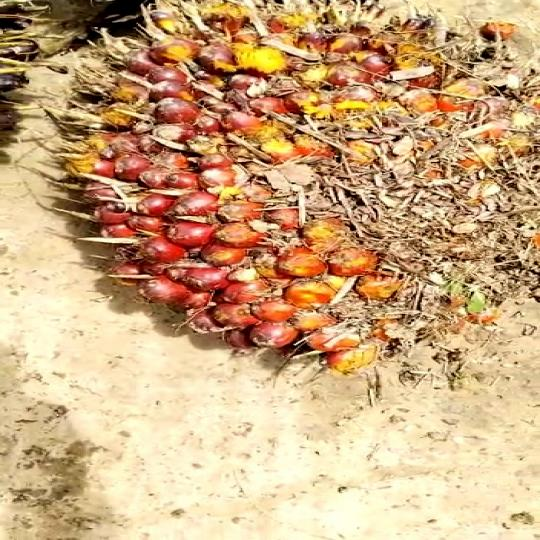masak: (52, 0, 539, 368)
